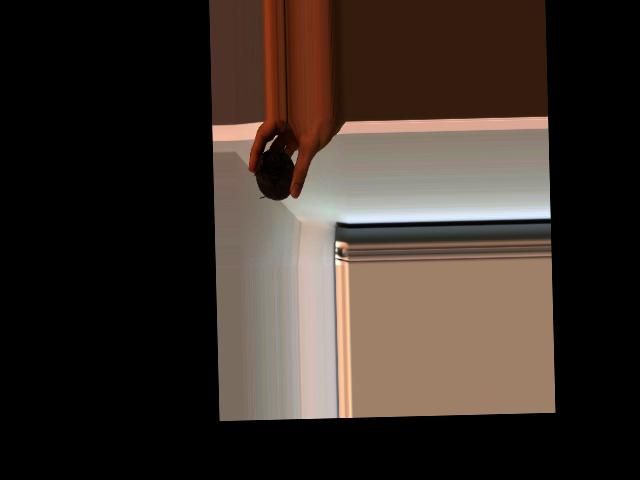beet: (253, 118, 296, 201)
